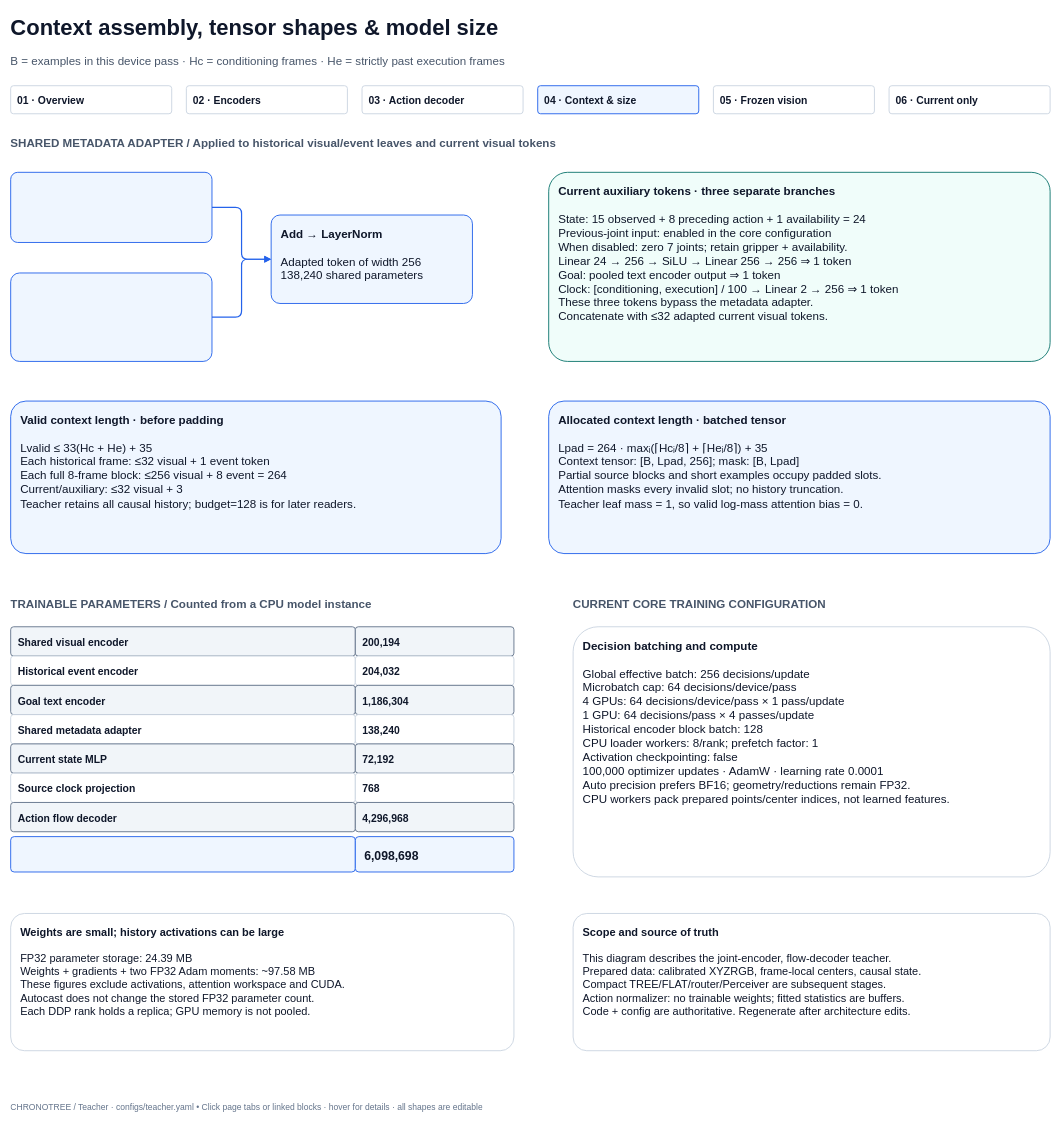
This 1061x1126 diagram has some shape labels left out. The shapes that lost their labels are listed below. From the top down, each one's centre as x and y in pixels, then its label:
(111,207): Token content Linear 256 → 256
(111,317): 23 metadata values Linear 23 → 256 → SiLU Linear 256 → 256
(183,854): TOTAL · all trainable, initialized from scratch
